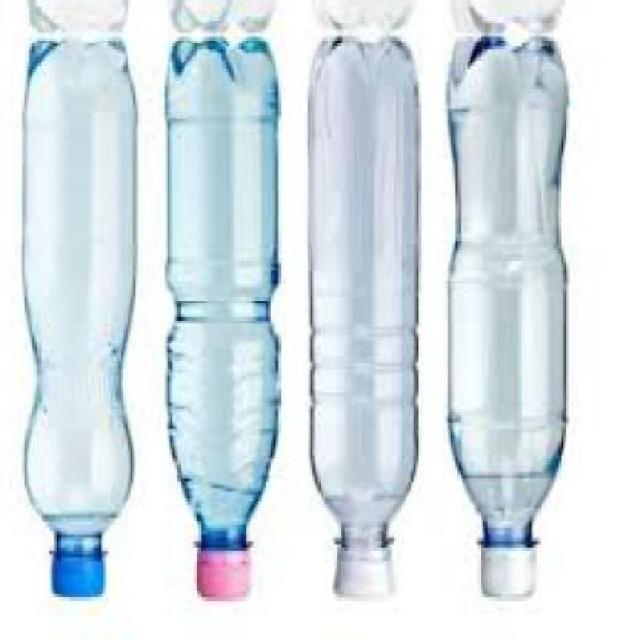PLASTIC: (450, 40, 568, 603), (25, 43, 140, 600), (167, 43, 281, 603), (313, 40, 421, 603), (334, 551, 400, 600), (482, 548, 540, 603), (197, 551, 254, 604), (52, 554, 108, 600)
